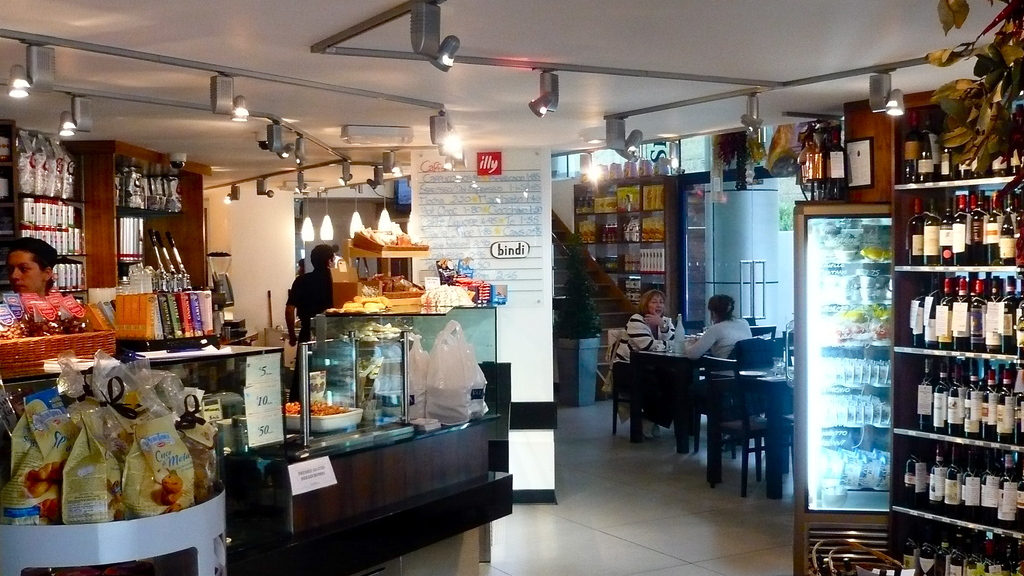refrigerator door: (798, 210, 889, 514)
